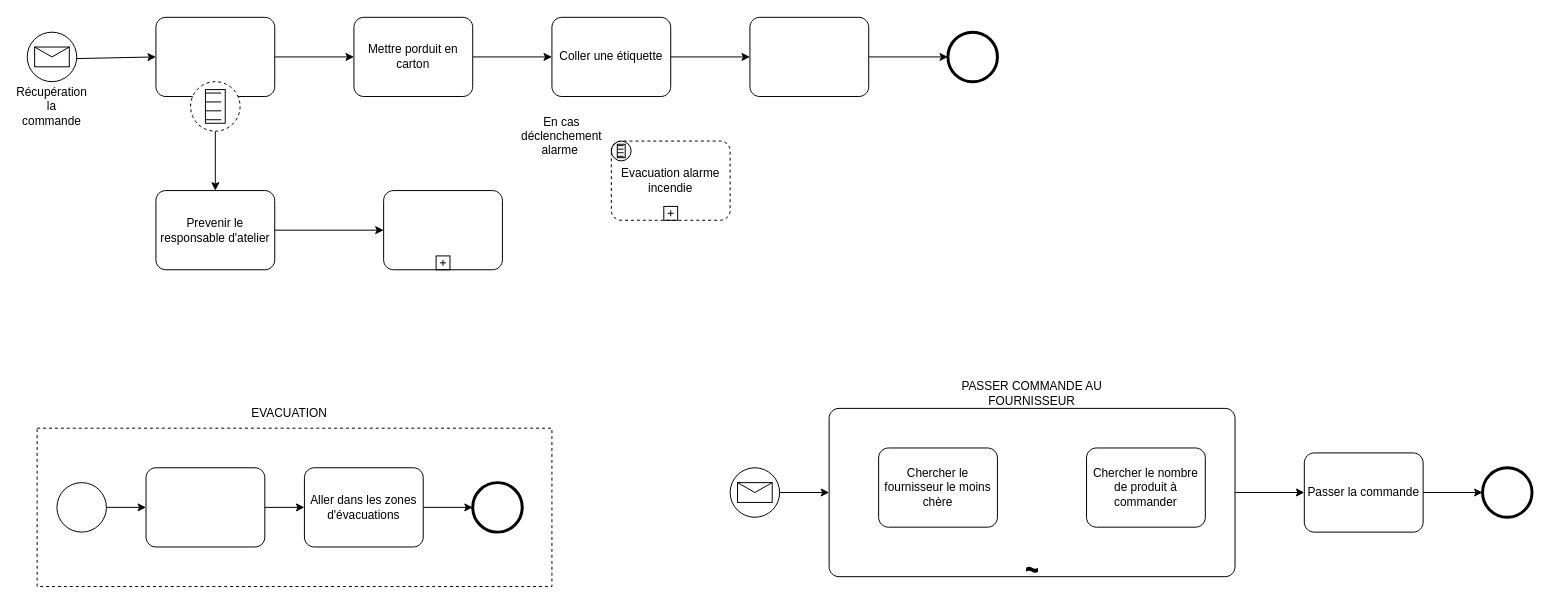
Some shapes in this 1549 by 604 pixel diagram are drawn without their labels. Each missing label, with the centre of its shape:
"Fermer les fenêtres" goes at (x=205, y=507).
"Passer commande un fournisseur" goes at (x=442, y=230).
"Placer carton dans la zone d'envoi" goes at (x=809, y=56).
"Prends un produit en stock" goes at (x=215, y=56).
